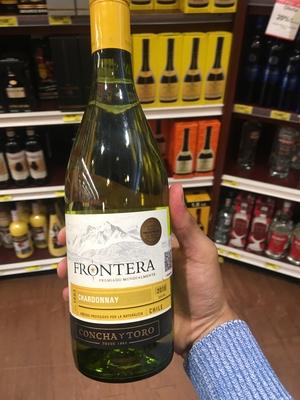frontera chardonnay: (50, 7, 189, 368)
